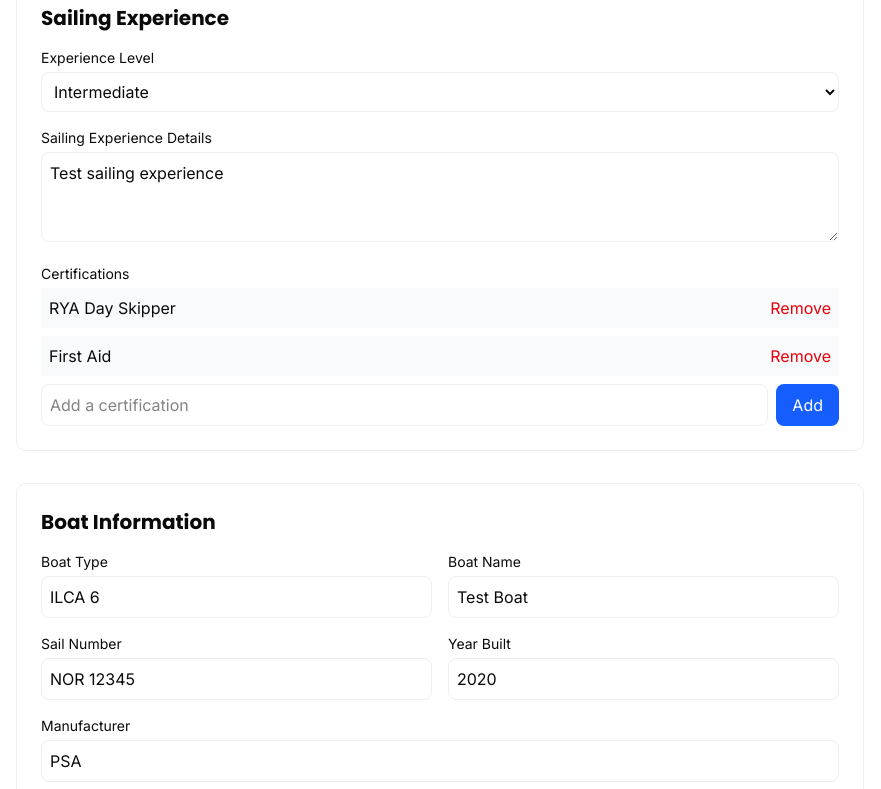
Test: ProfileEditForm Component › Form Editing and Interaction › should add certification on Enter key press
(page scrolled)
In the field with placeholder "Add a certification": (405, 405) [41, 384, 768, 426], type "Enter Certification"
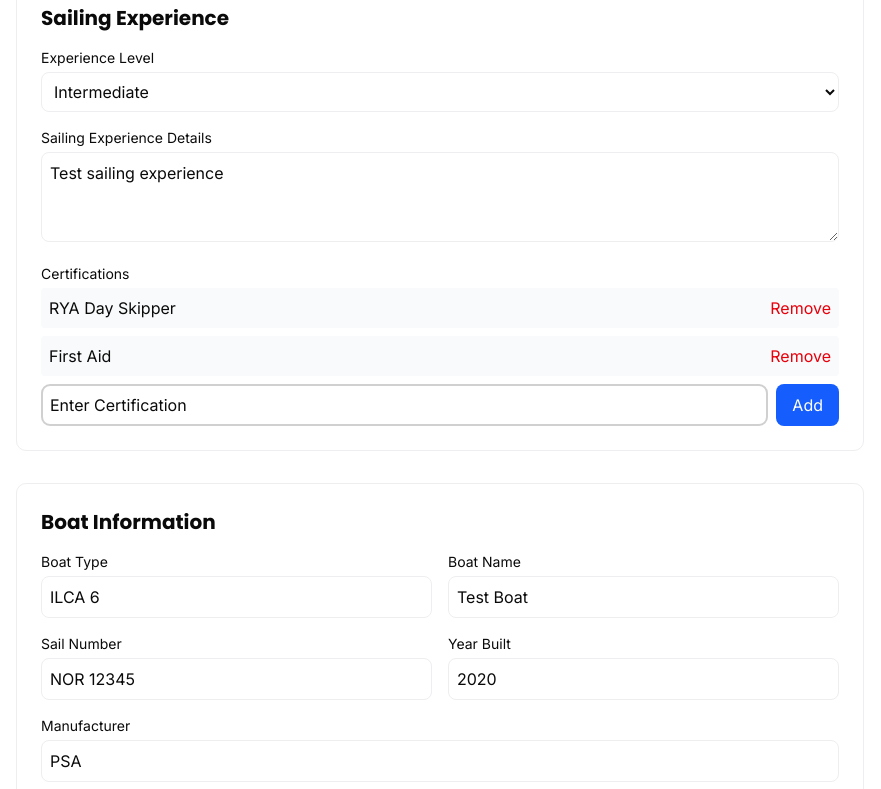
Press Enter
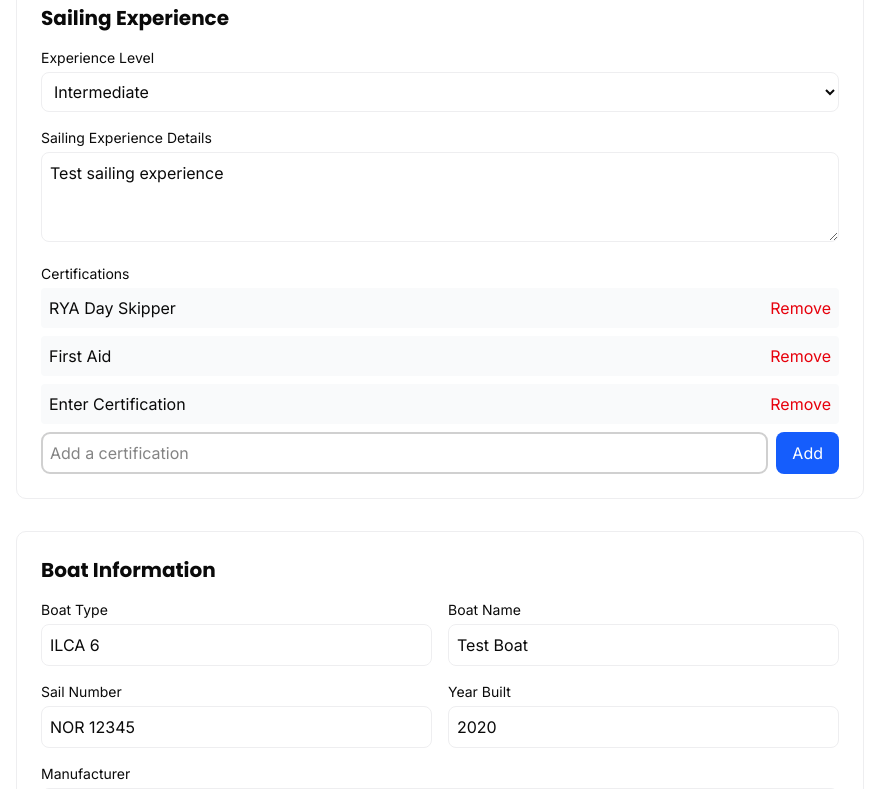
Check: the text "Enter Certification" is shown, box [49, 392, 186, 416]
Check: the field with placeholder "Add a certification" is empty, box [41, 432, 768, 474]
